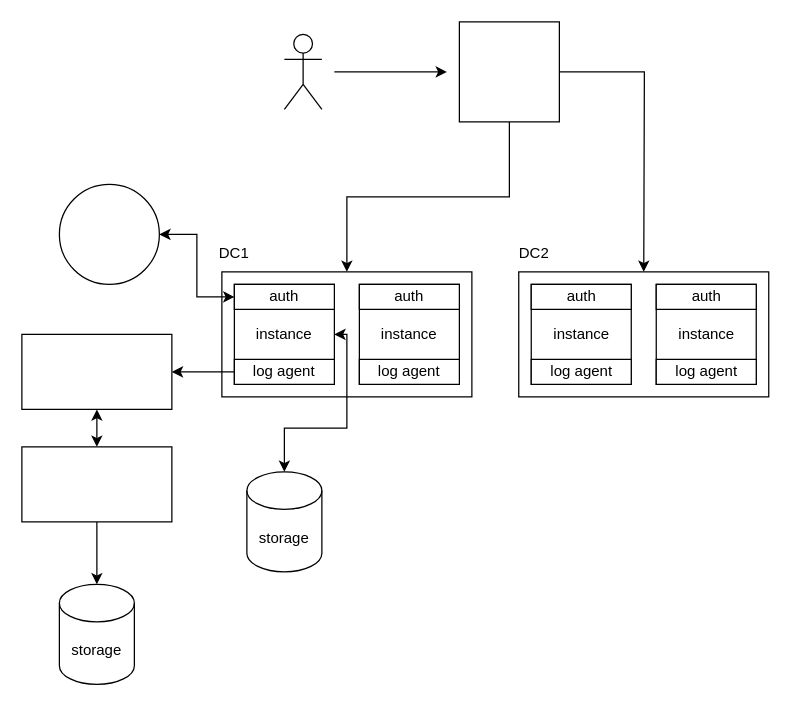
Some shapes in this 791 by 706 pixel diagram are drawn without their labels. Here are the shapes that lost their labels. From the top down, the box of each, then its label:
(458, 21, 559, 122): load balacer
(58, 183, 159, 284): auth server
(21, 333, 172, 409): message queue
(21, 446, 172, 522): consumer
